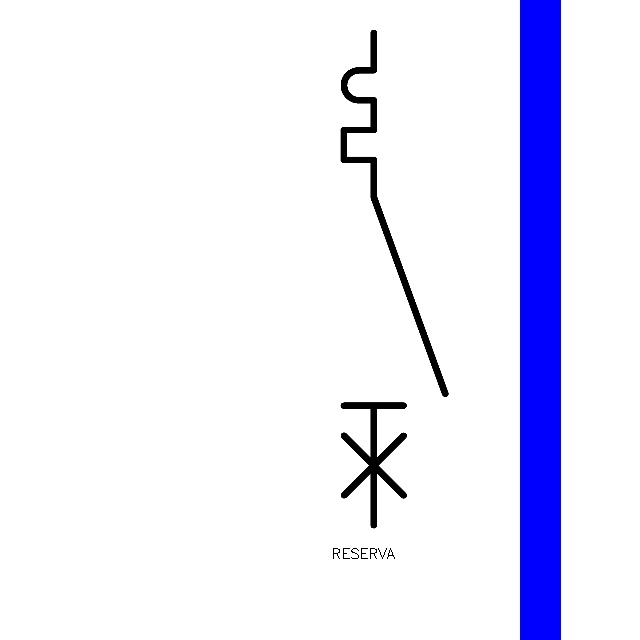interruptor_termomagnetico: (331, 20, 457, 538)
